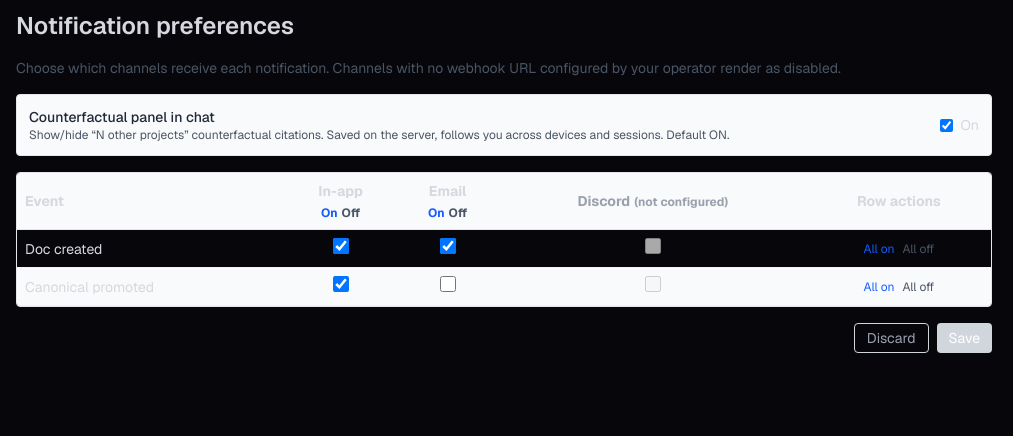
Test: NotificationPreferencesGrid › renders the save error banner when the PUT fails
Click the checkbox with test id "notif-pref-cell-kb_doc_created-in_app-toggle".
click(341, 246)  # box [333,238,349,254]
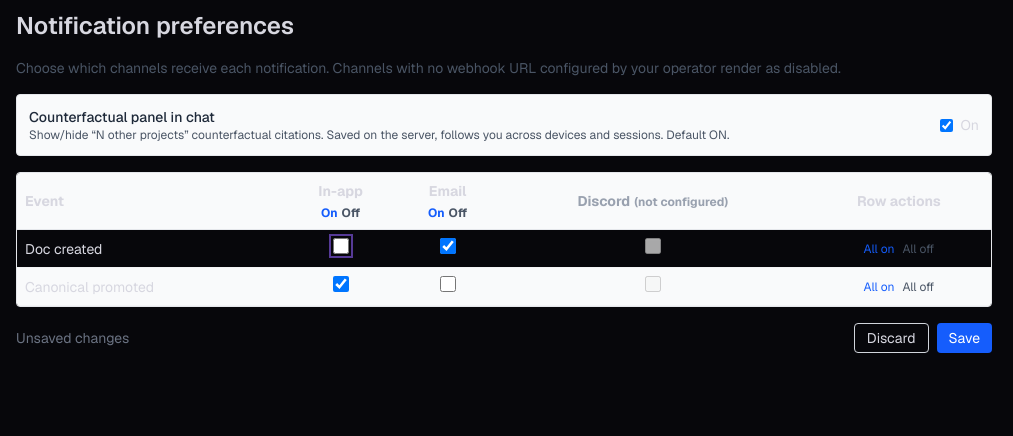
Click the button with test id "notif-pref-save".
click(964, 338)  # box [936,323,992,353]
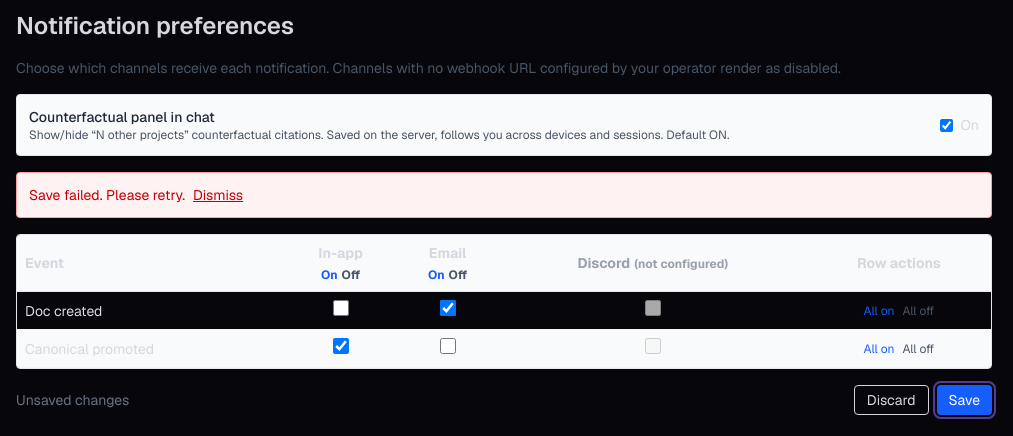
Expected: the message "Save failed. Please retry. Dismiss" is shown, [16,172,992,218]
